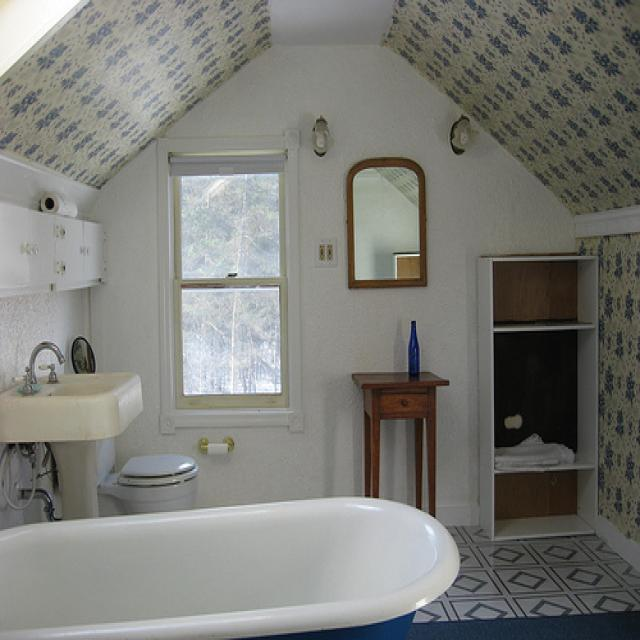bottle: (407, 318, 421, 380)
